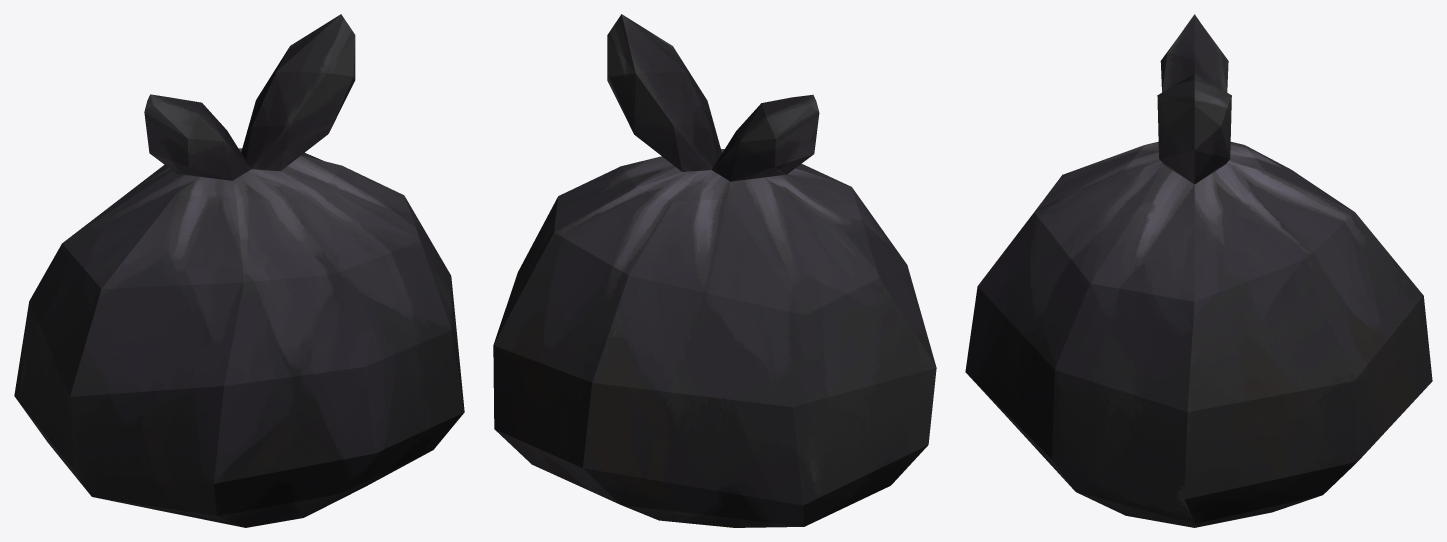
Rendered from GarbageBag.FBX.
3 views of the same model, side by side, from view 1: azimuth 30°, elevation 25°; view 2: azimuth 150°, elevation 25°; view 3: azimuth 270°, elevation 25° (orthographic).
Visible parts, largest first — view 1: GarbageBag; view 2: GarbageBag; view 3: GarbageBag.
Boxes of the visible parts, x1,y1,x2,y2 form: GarbageBag: [14, 14, 464, 527]; GarbageBag: [493, 14, 936, 527]; GarbageBag: [965, 14, 1432, 527].
Bounding box in the file's own units: 103 × 111 × 104.
Materials: 1 (1 with a texture image).
